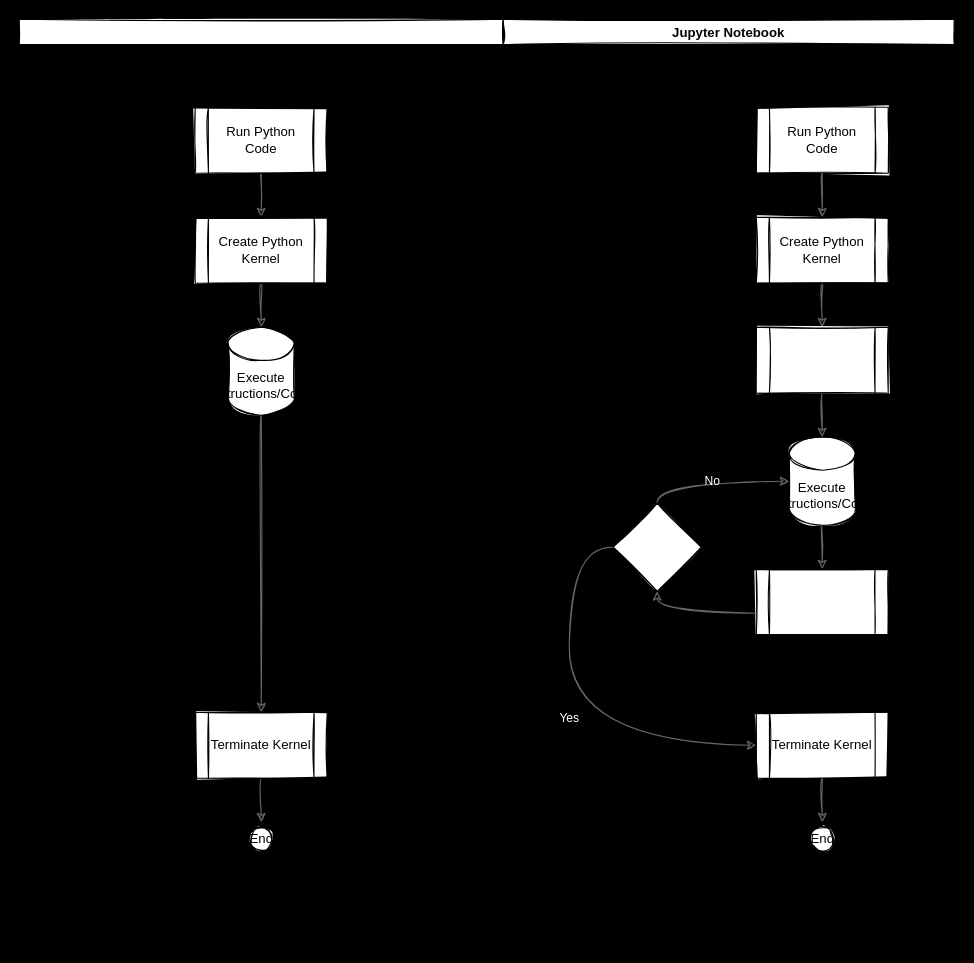
Image size: 974x963. Some labels were removed from this diagram. The box of each missing label's shape, as (x1, y1, x2, y2) in pixels:
Additional User Interaction: (755, 568, 888, 635)
Create Jupyter Notebook Wrapper: (755, 326, 888, 393)
Is this an Instruction to Quit?: (612, 502, 701, 591)
Pure Python Code: (18, 18, 503, 943)
